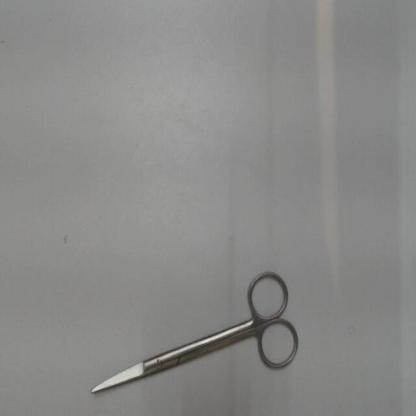Curved Mayo Scissors: (84, 263, 307, 401)
